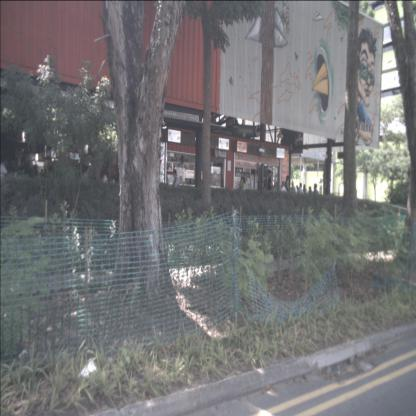human-pedestrian-adult: (0, 155, 11, 200), (81, 165, 90, 202), (171, 168, 180, 200), (100, 169, 109, 196), (24, 152, 30, 188), (267, 169, 273, 204), (283, 174, 290, 204), (240, 175, 247, 203), (279, 180, 287, 202), (297, 182, 305, 203), (290, 181, 297, 204), (306, 186, 314, 206), (312, 184, 319, 206), (302, 184, 308, 206), (34, 164, 39, 190), (40, 169, 46, 190), (262, 182, 268, 203), (272, 184, 277, 204), (296, 184, 300, 200)
